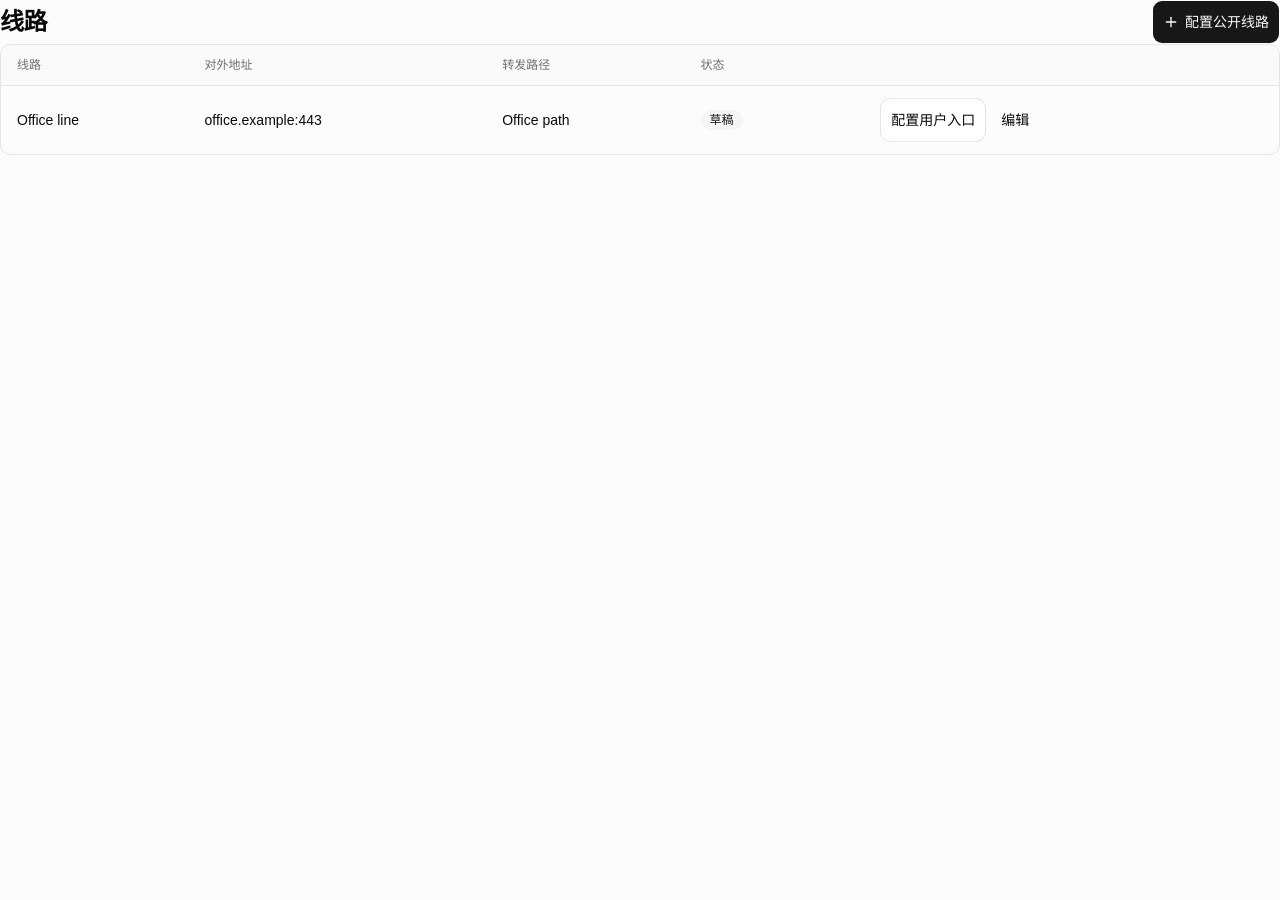
Test: explains the check dependency, expires a checked draft on edit, then returns the saved line to its next step
Step 1. Click the button "编辑" → [1015, 120], box [990, 98, 1040, 142]
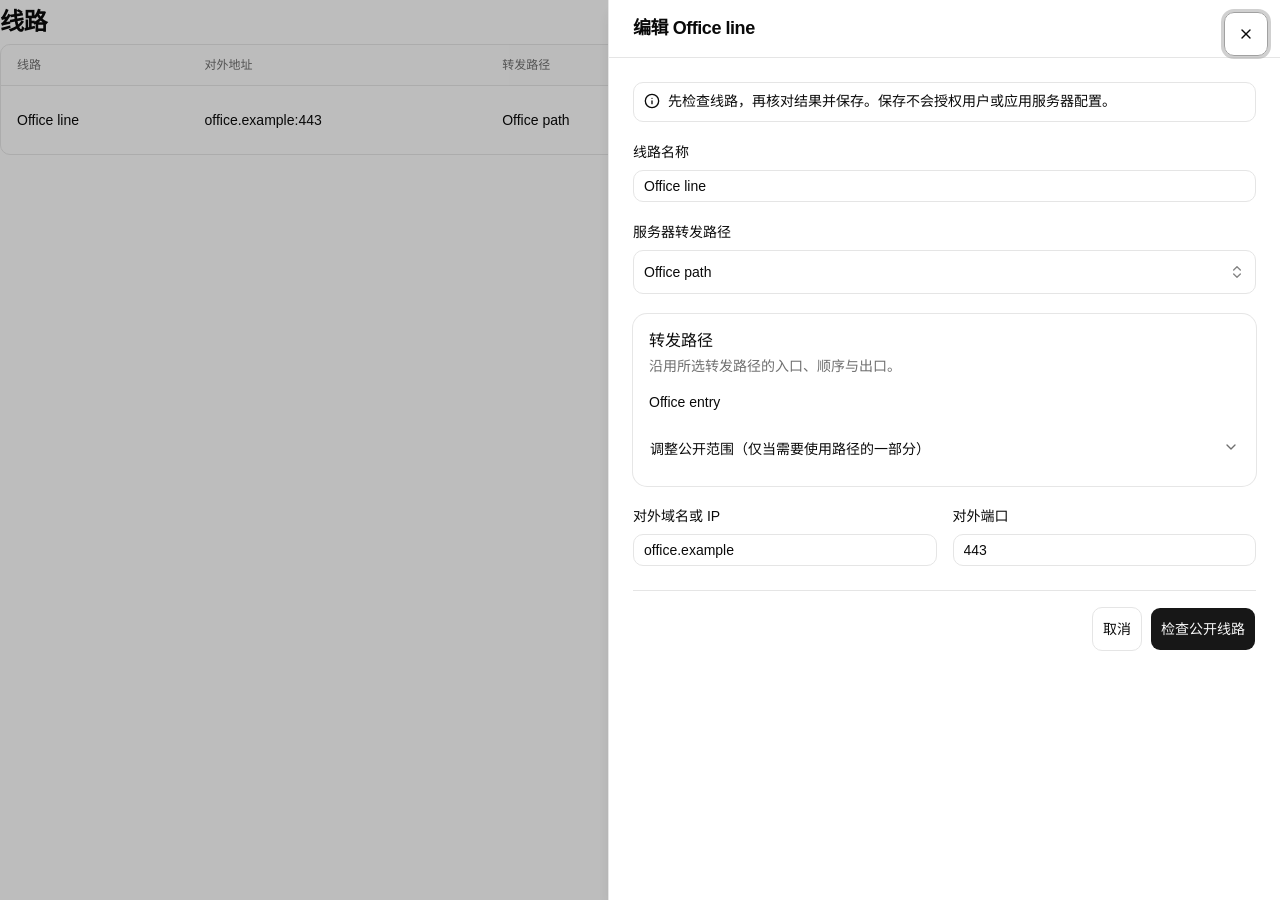
Expected: the button "保存公开线路" is not shown
Result: the text "先检查线路，再核对结果并保存。保存不会授权用户或应用服务器配置。" is shown at [668, 93, 1116, 109]
Step 2. Click the button "检查公开线路" → [1203, 629], box [1150, 607, 1256, 651]
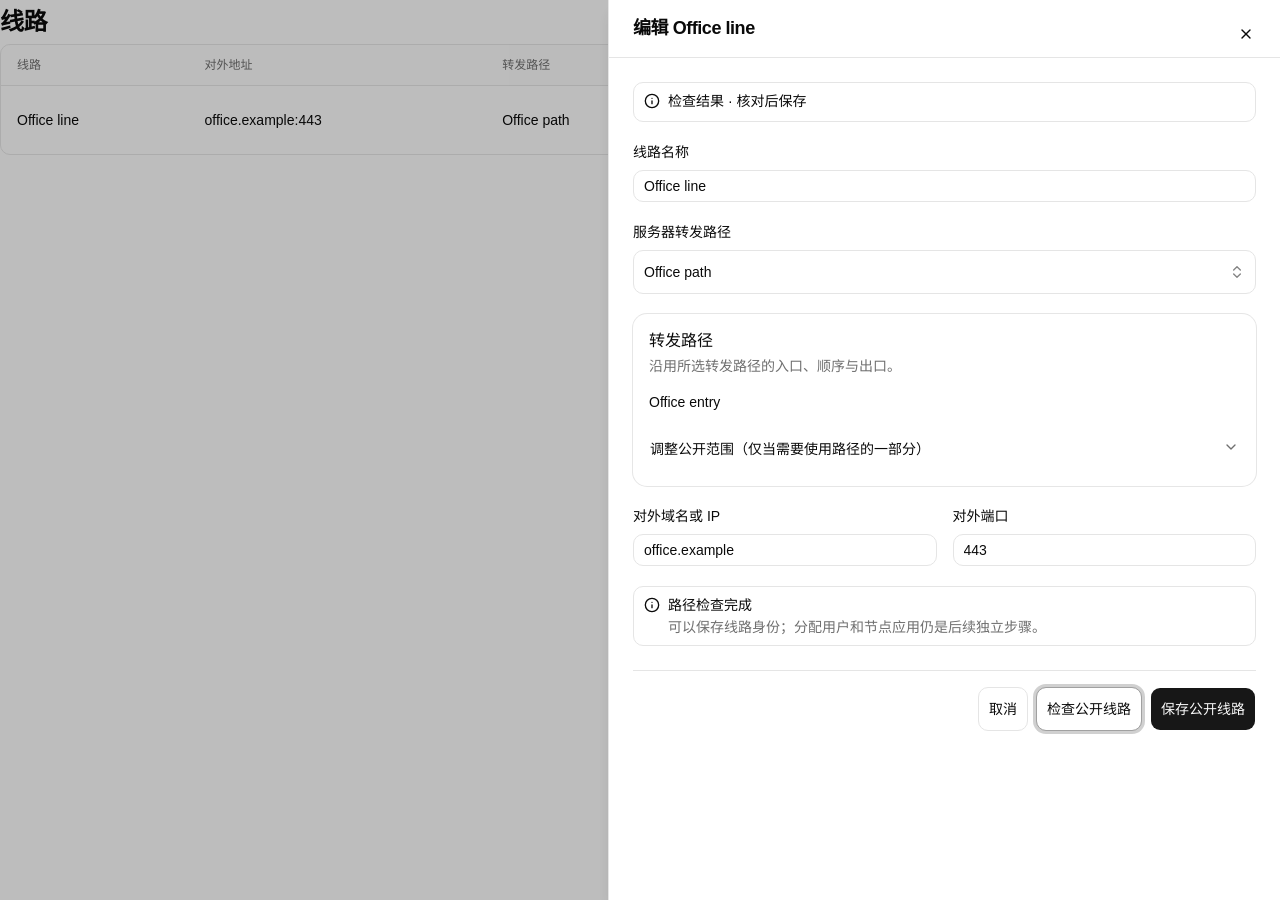
Result: the text "路径检查完成" is shown at [668, 597, 752, 613]
Step 3. Replace the text in the field labelled "线路名称" with "Changed line" → [944, 186], box [633, 170, 1256, 202]
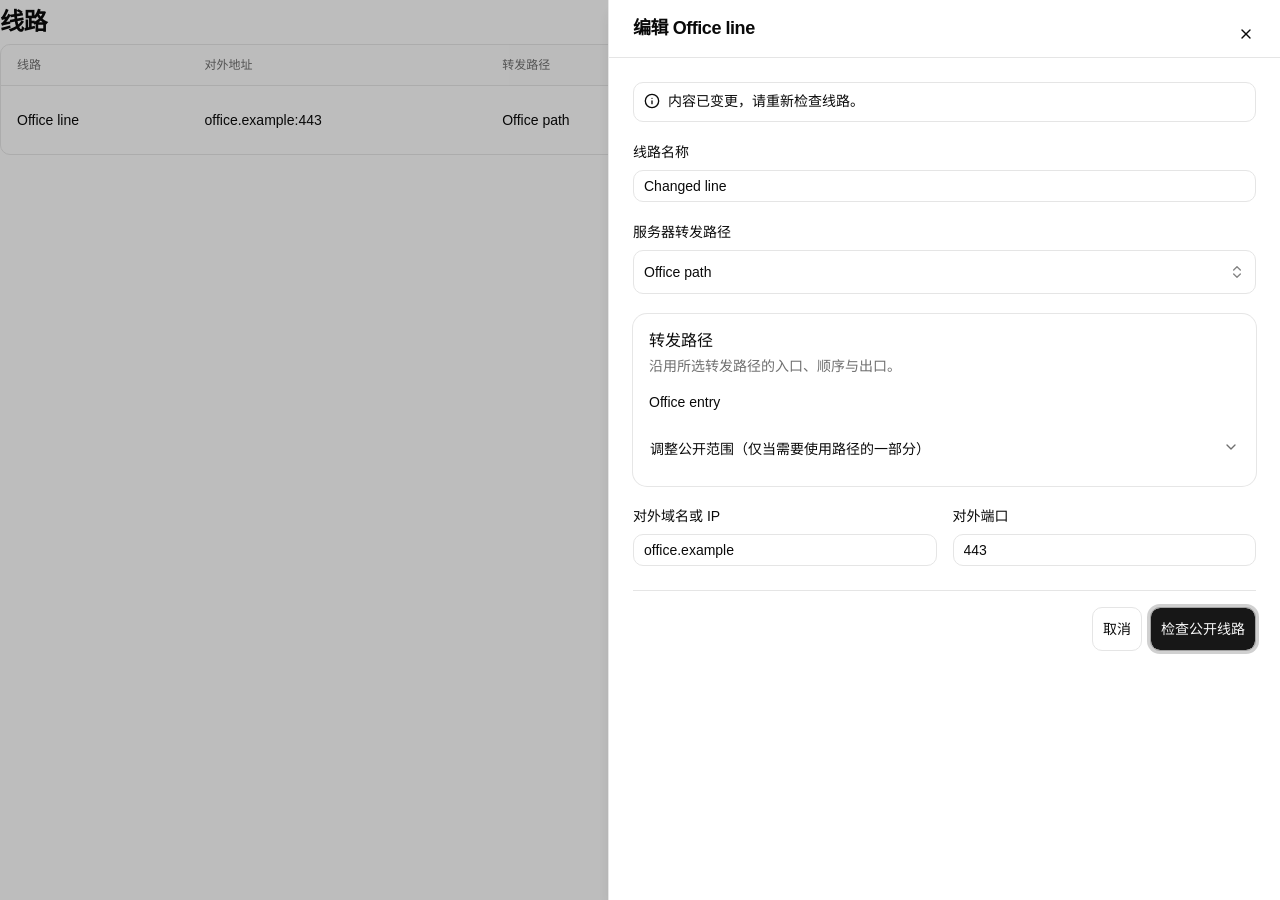
Result: the text "内容已变更，请重新检查线路。" is shown at [668, 93, 864, 109]
Result: the button "保存公开线路" is gone
Step 4. Click the button "检查公开线路" → [1203, 629], box [1150, 607, 1256, 651]
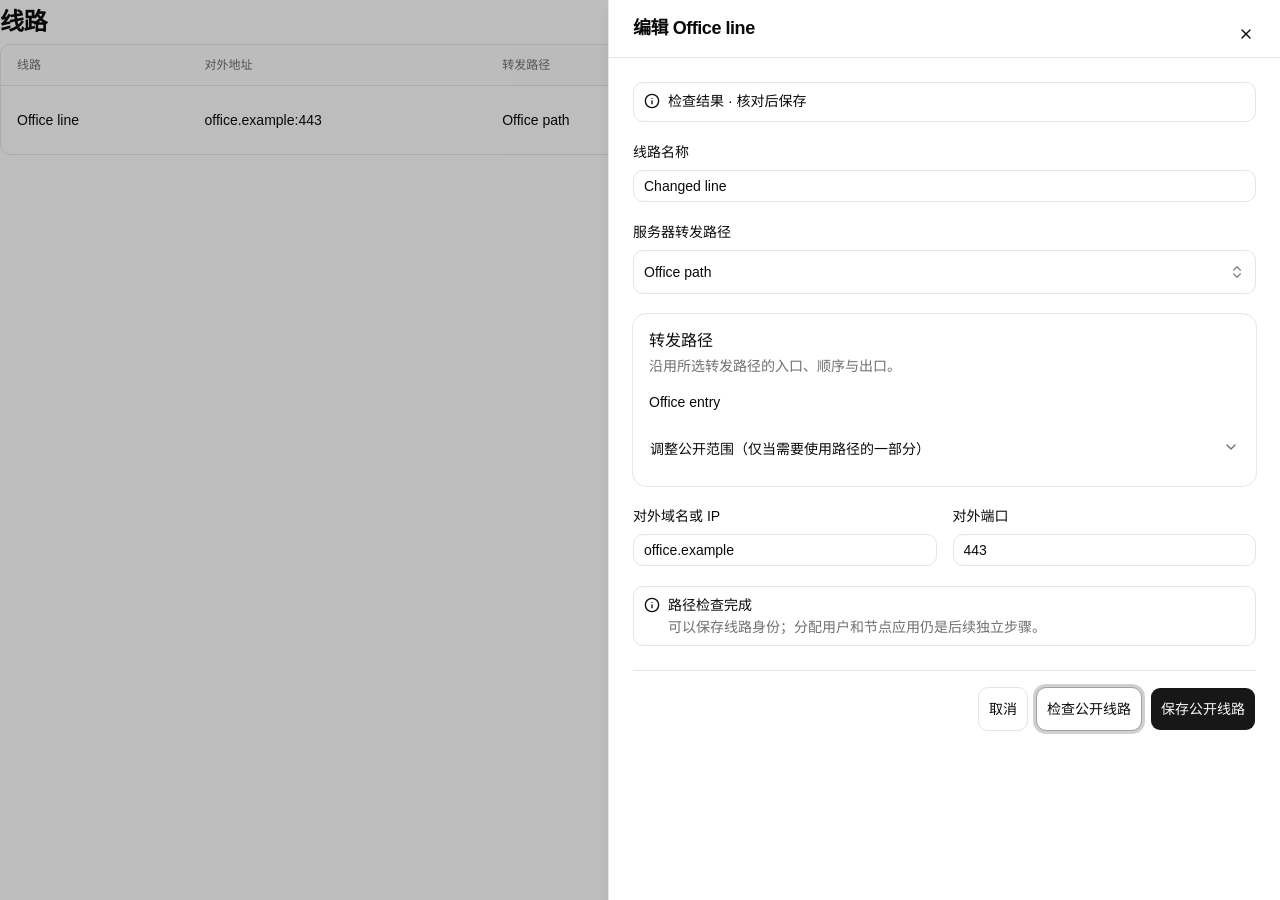
Step 5. Click the button "保存公开线路" → [1203, 709], box [1150, 687, 1256, 731]
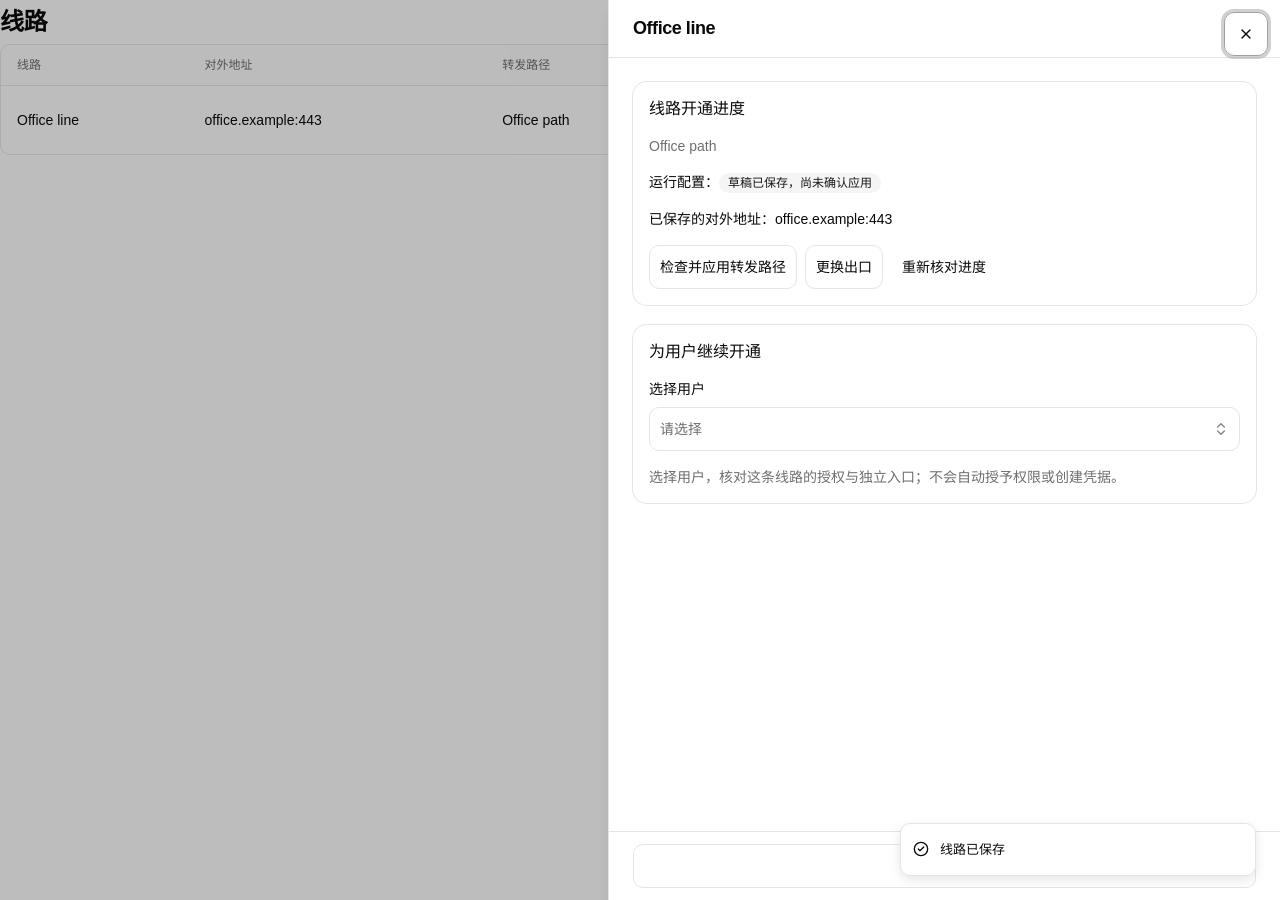
Result: the heading "线路开通进度" is shown at [649, 100, 745, 117]
